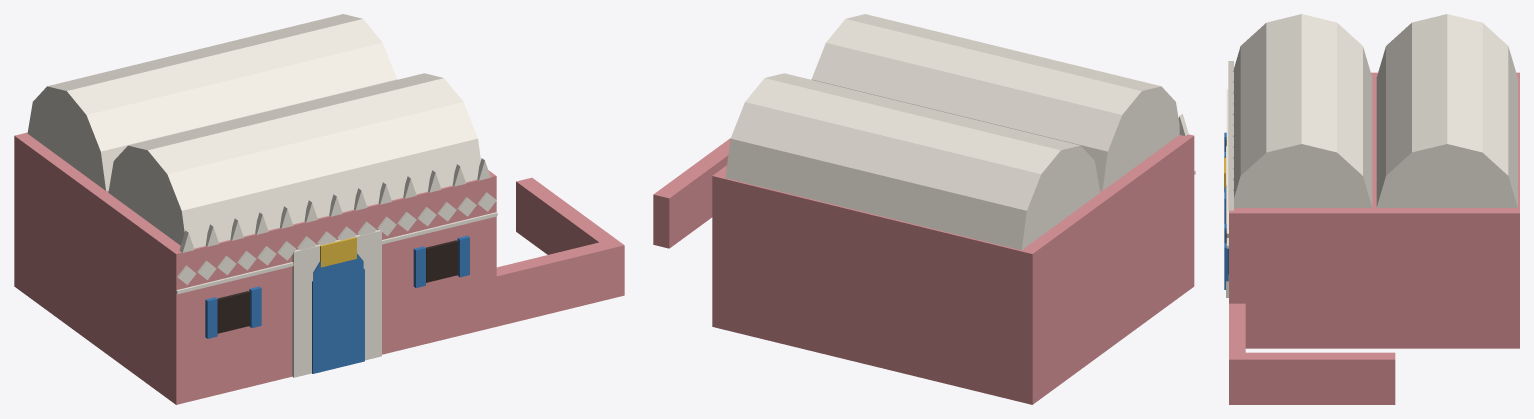
The model's file is hus_nubisk_3.glb.
The picture shows the model from 3 angles, left to right: view 1: azimuth 30°, elevation 25°; view 2: azimuth 150°, elevation 25°; view 3: azimuth 270°, elevation 25°; orthographic projection. The views are drawn at different scales.
Visible parts, largest first — view 1: hus_nubisk_3; view 2: hus_nubisk_3; view 3: hus_nubisk_3.
Boxes of the visible parts, x1,y1,x2,y2 form: hus_nubisk_3: (14,14,624,404); hus_nubisk_3: (653,14,1195,404); hus_nubisk_3: (1224,14,1519,404).
Bounding box in the file's own units: 11.2 × 5.3 × 7.12.
